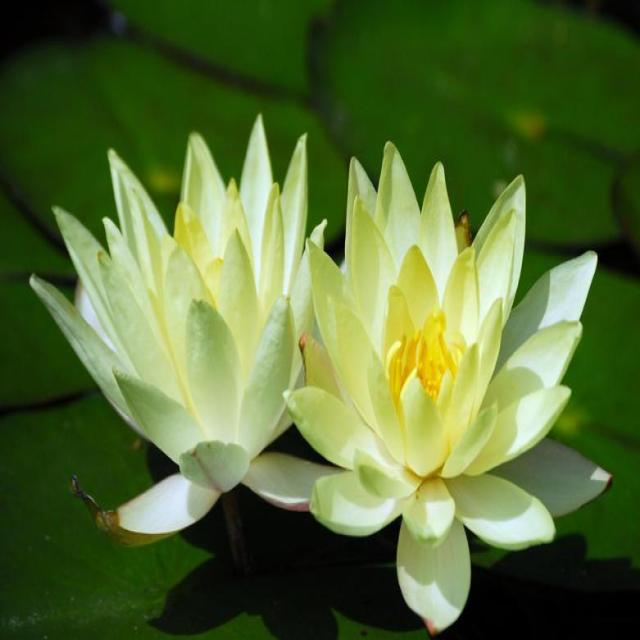rose: (13, 51, 622, 640)
